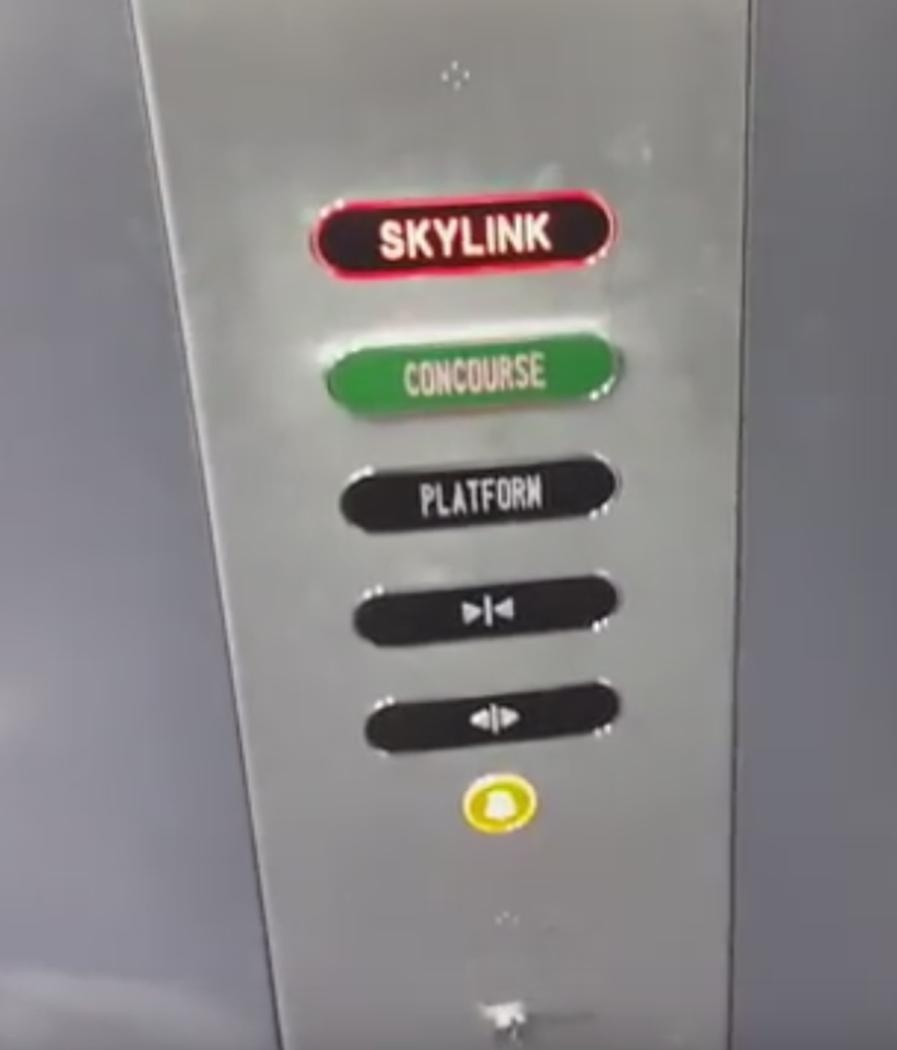alarm: (460, 772, 539, 837)
close: (353, 571, 622, 651)
open: (360, 681, 619, 758)
text: (319, 321, 623, 420), (308, 192, 620, 284), (332, 452, 620, 537)
